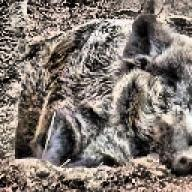boar: (13, 12, 192, 177)
